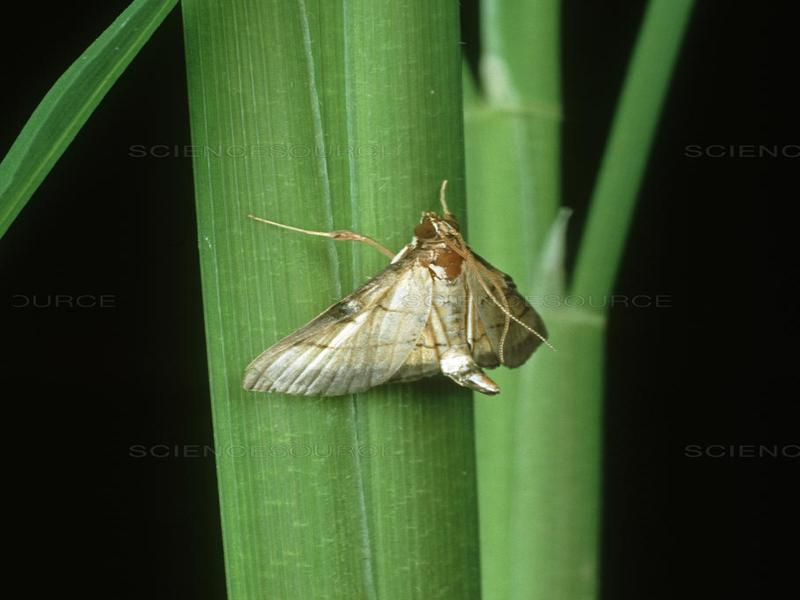Leaf_folder: (236, 210, 567, 402)
